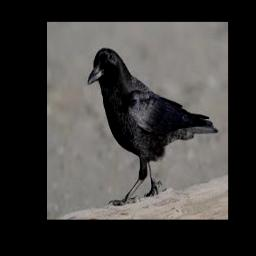Crow: (88, 48, 219, 206)
